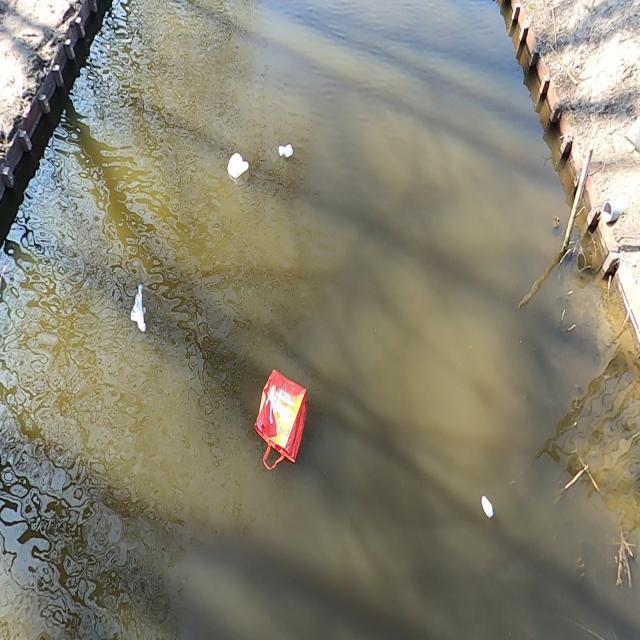Non plastique: (478, 495, 496, 520)
Sac plastique: (254, 364, 312, 481)
